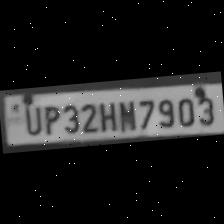0: (173, 92, 195, 127)
2: (77, 98, 99, 132)
3: (193, 90, 217, 127), (59, 100, 80, 134)
7: (132, 94, 156, 130)
9: (154, 94, 176, 129)
H: (95, 97, 117, 132)
N: (114, 95, 136, 131)
P: (39, 100, 61, 134)
U: (20, 101, 42, 135)
